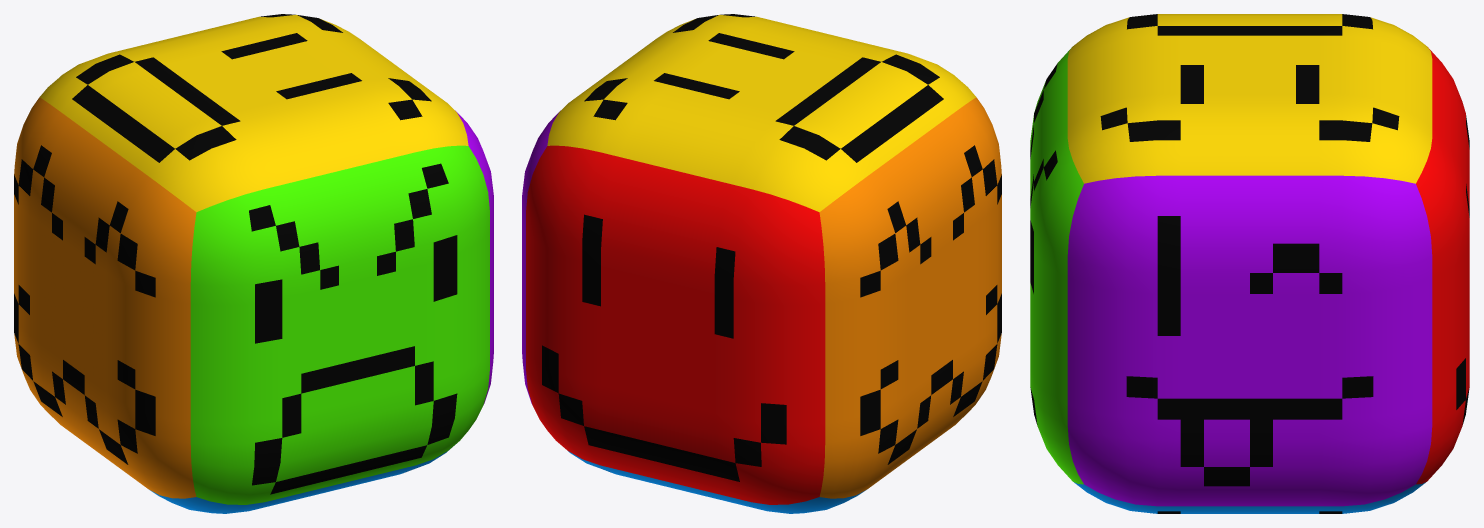
The model's file is friend_rounded.glb.
3 renders of one model, left to right at view 1: azimuth 30°, elevation 25°; view 2: azimuth 150°, elevation 25°; view 3: azimuth 270°, elevation 25°, orthographic. The views are drawn at different scales.
Parts seen in each view (by area): view 1: Cube.001; view 2: Cube.001; view 3: Cube.001.
Part boxes in pixels (x1,y1,x2,y2): Cube.001: (14, 14, 493, 513); Cube.001: (522, 14, 1001, 513); Cube.001: (1030, 14, 1469, 513).
Size of the model in its own units: 4.76 by 4.76 by 4.76.
Materials: 6 (6 with a texture image).
